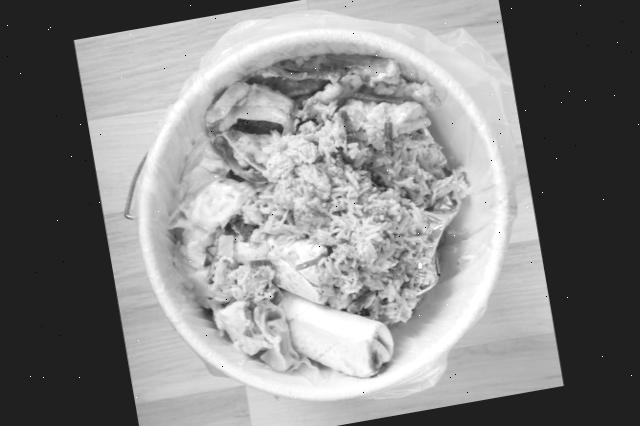Garbage: (144, 32, 502, 384)
Plastic_wraper: (421, 204, 459, 276), (416, 278, 434, 307)
